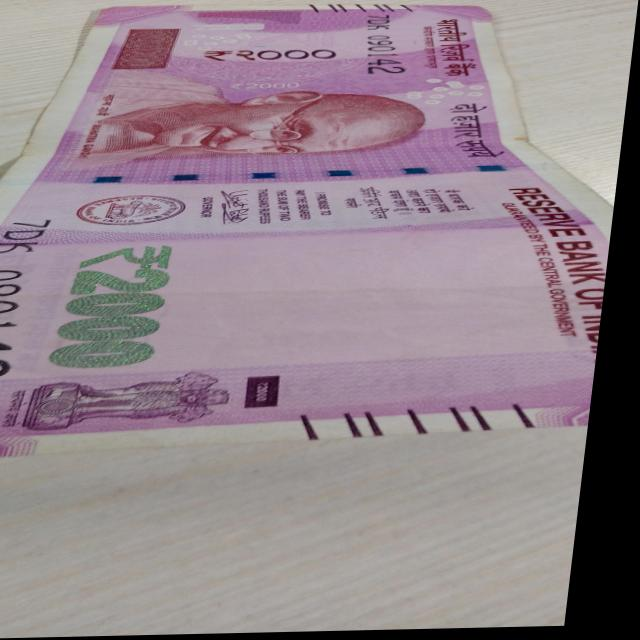Currency: (0, 4, 639, 458)
